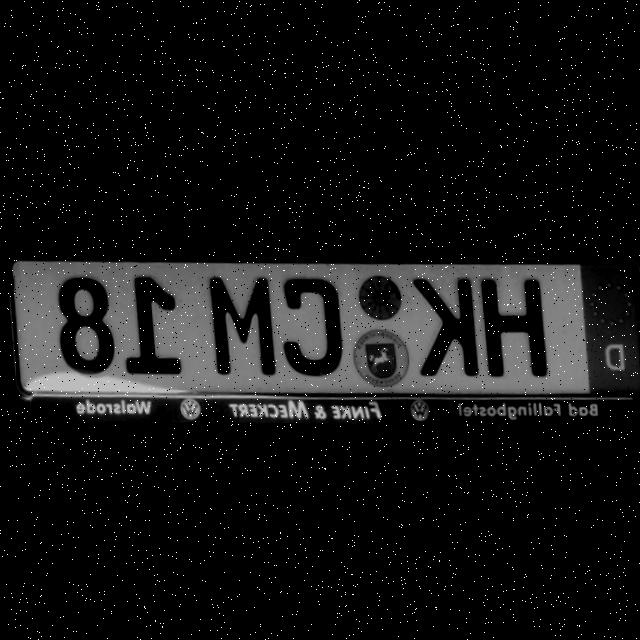license-plates: (13, 262, 640, 397)
